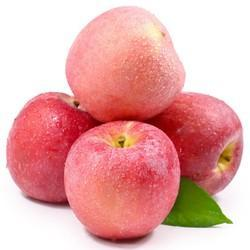apple: (64, 3, 186, 120), (65, 121, 182, 242), (6, 91, 100, 202), (154, 92, 243, 200)
